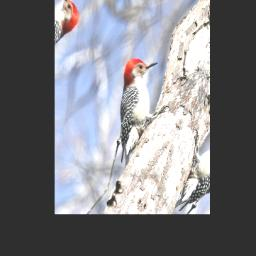Woodpecker: (87, 40, 186, 183)
